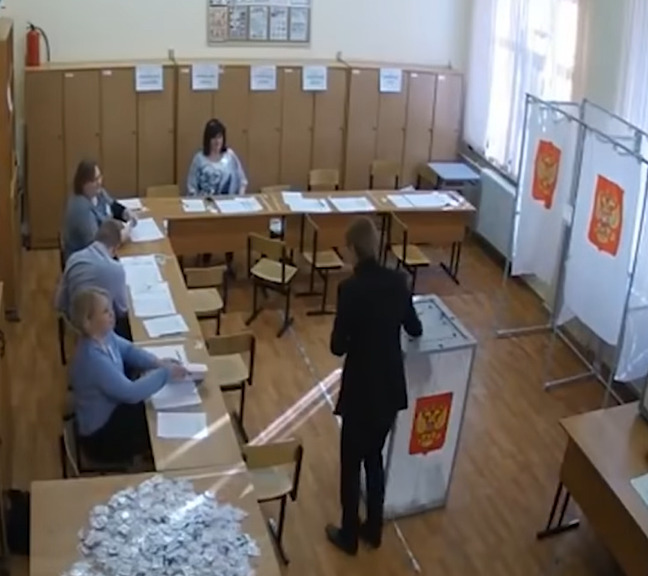person: (322, 218, 423, 558), (69, 284, 189, 454), (54, 218, 134, 325), (58, 161, 138, 254), (185, 120, 248, 200)
